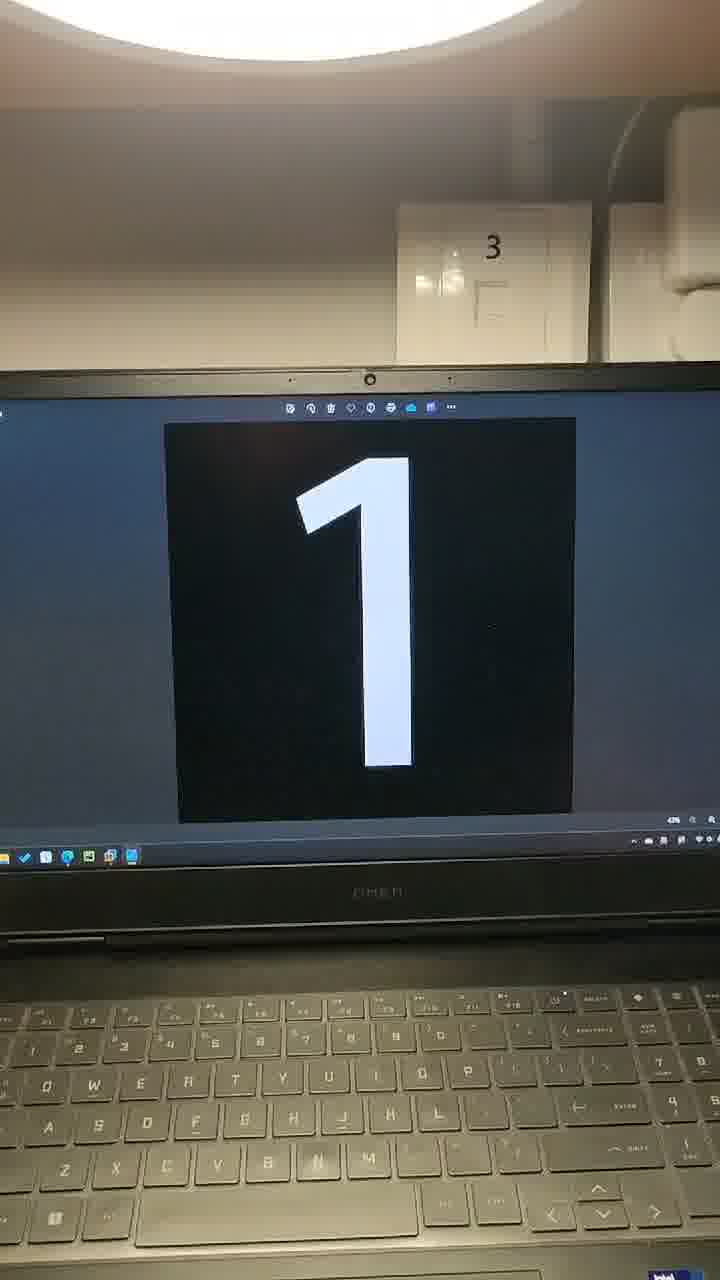one: (186, 391, 473, 815)
